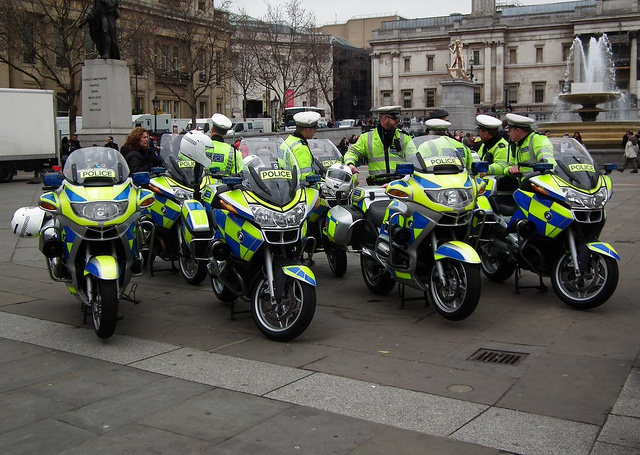non-vehicle: (180, 136, 321, 337), (10, 148, 157, 338), (458, 139, 621, 309), (323, 134, 492, 283), (149, 132, 215, 284), (304, 138, 345, 174), (467, 147, 494, 175)
